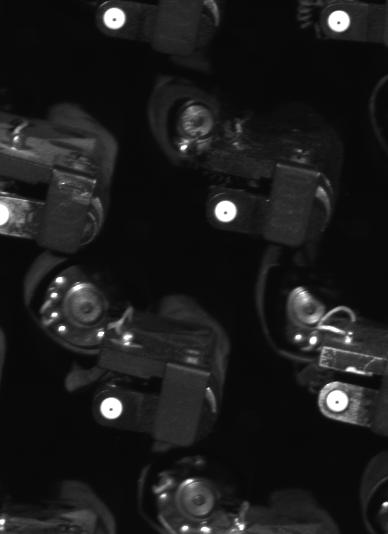fiber: (209, 196, 243, 225), (324, 6, 356, 34), (320, 389, 353, 416), (97, 395, 127, 424), (100, 6, 131, 33)
